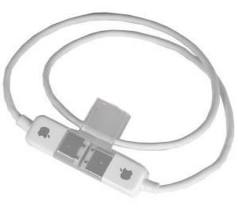Apple: (31, 119, 58, 143), (117, 163, 138, 185)
